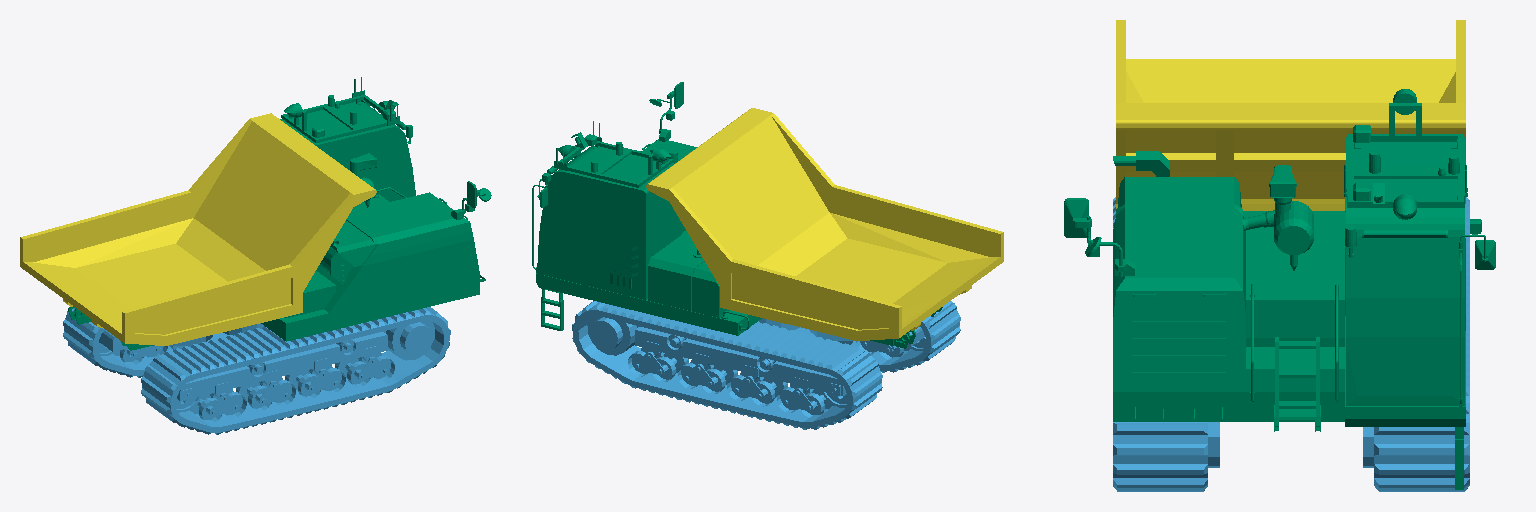
URDF robot description (mst2200vd):
<?xml version="1.0" ?>
<!-- =================================================================================== -->
<!-- |    This document was autogenerated by xacro from mst2200vd.xacro                 | -->
<!-- |    EDITING THIS FILE BY HAND IS NOT RECOMMENDED                                 | -->
<!-- =================================================================================== -->
<robot name="mst2200vd">
  <!-- Base Link -->
  <link name="base_link"/>
  <!-- Track {{{ -->
  <joint name="base_joint" type="fixed">
    <parent link="base_link"/>
    <child link="track_link"/>
  </joint>
  <link name="track_link">
    <visual>
      <geometry>
        <mesh filename="package://mst2200vd_description/meshes/mst2200vd-crawler.dae"/>
      </geometry>
    </visual>
    <collision>
      <geometry>
        <mesh filename="package://mst2200vd_description/meshes/mst2200vd-crawler.dae"/>
      </geometry>
    </collision>
    <inertial>
      <origin rpy="0 0 0" xyz="0 0 0"/>
      <mass value="0.03"/>
      <inertia ixx="1.0" ixy="0.0" ixz="0.0" iyy="1.0" iyz="0.0" izz="1.0"/>
    </inertial>
  </link>
  <!-- }}} Track ends here -->
  <!-- Body {{{ -->
  <joint name="swing_joint" type="continuous">
    <origin xyz="0 0 1"/>
    <axis xyz="0 0 1"/>
    <parent link="track_link"/>
    <child link="body_link"/>
  </joint>
  <link name="body_link">
    <visual>
      <origin xyz="0 0 0"/>
      <geometry>
        <mesh filename="package://mst2200vd_description/meshes/mst2200vd-body.dae"/>
      </geometry>
    </visual>
    <collision>
      <origin xyz="0 0 0"/>
      <geometry>
        <mesh filename="package://mst2200vd_description/meshes/mst2200vd-body.dae"/>
      </geometry>
    </collision>
    <inertial>
      <origin rpy="0 0 0" xyz="0 0 0"/>
      <mass value="0.03"/>
      <inertia ixx="1.0" ixy="0.0" ixz="0.0" iyy="1.0" iyz="0.0" izz="1.0"/>
    </inertial>
  </link>
  <!-- }}} Body ends here -->
  <!-- Vessel {{{ -->
  <joint name="vessel_pin_joint" type="revolute">
    <origin xyz="-2.389 0 0.562"/>
    <axis xyz="0 1 0"/>
    <parent link="body_link"/>
    <child link="vessel_link"/>
    <limit effort="500" lower="-1.0471975511965976" upper="0.0" velocity="6.159937255"/>
  </joint>
  <link name="vessel_link">
    <visual>
      <origin xyz="0 0 0"/>
      <geometry>
        <mesh filename="package://mst2200vd_description/meshes/mst2200vd-vessel.dae"/>
      </geometry>
    </visual>
    <collision>
      <origin xyz="0 0 0"/>
      <geometry>
        <mesh filename="package://mst2200vd_description/meshes/mst2200vd-vessel.dae"/>
      </geometry>
    </collision>
    <inertial>
      <origin rpy="0 0 0" xyz="0 0 0"/>
      <mass value="0.03"/>
      <inertia ixx="1.0" ixy="0.0" ixz="0.0" iyy="1.0" iyz="0.0" izz="1.0"/>
    </inertial>
  </link>
  <!-- }}} Vessel ends here -->
  <!-- Vessel Cylinder {{{ -->
  <joint name="vessel_cylinder_joint" type="continuous">
    <origin xyz="-1.891 0 0.293"/>
    <axis xyz="0 1 0"/>
    <parent link="body_link"/>
    <child link="vessel_cylinder_link"/>
    <mimic joint="vessel_pin_joint" multiplier="1.1"/>
  </joint>
  <link name="vessel_cylinder_link">
    <visual>
      <origin xyz="0 0 0"/>
      <geometry>
        <mesh filename="package://mst2200vd_description/meshes/mst2200vd-vessel_cylinder.dae"/>
      </geometry>
    </visual>
    <collision>
      <origin xyz="0 0 0"/>
      <geometry>
        <mesh filename="package://mst2200vd_description/meshes/mst2200vd-vessel_cylinder.dae"/>
      </geometry>
    </collision>
    <inertial>
      <origin rpy="0 0 0" xyz="0 0 0"/>
      <mass value="0.03"/>
      <inertia ixx="1.0" ixy="0.0" ixz="0.0" iyy="1.0" iyz="0.0" izz="1.0"/>
    </inertial>
  </link>
  <!-- }}} Vessel Cylinder ends here -->
  <!-- Vessel Rod {{{ -->
  <joint name="vessel_rod_joint" type="prismatic">
    <origin xyz="0 0 0"/>
    <axis xyz="1.039 0 0.282"/>
    <parent link="vessel_cylinder_link"/>
    <child link="vessel_rod_link"/>
    <limit effort="500" lower="0" upper="0.6" velocity="6.159937255"/>
    <mimic joint="vessel_pin_joint" multiplier="-0.5729577951308232"/>
  </joint>
  <link name="vessel_rod_link">
    <visual>
      <origin xyz="0 0 0"/>
      <geometry>
        <mesh filename="package://mst2200vd_description/meshes/mst2200vd-vessel_rod.dae"/>
      </geometry>
    </visual>
    <collision>
      <origin xyz="0 0 0"/>
      <geometry>
        <mesh filename="package://mst2200vd_description/meshes/mst2200vd-vessel_rod.dae"/>
      </geometry>
    </collision>
    <inertial>
      <origin rpy="0 0 0" xyz="0 0 0"/>
      <mass value="0.03"/>
      <inertia ixx="1.0" ixy="0.0" ixz="0.0" iyy="1.0" iyz="0.0" izz="1.0"/>
    </inertial>
  </link>
  <!-- }}} Vessel Rod ends here -->
</robot>

--- Facts derived from the render (not from the file) ---
3 views of the same robot in one strip: view 1: azimuth 30°, elevation 25°; view 2: azimuth 150°, elevation 25°; view 3: azimuth 270°, elevation 25° (orthographic).
Robot: mst2200vd — 6 links, 5 joints (1 revolute, 2 continuous, 1 prismatic, 1 fixed); root link base_link; default pose: every joint at zero.
Links seen in each view (by area): view 1: vessel_link, body_link, track_link; view 2: vessel_link, track_link, body_link; view 3: body_link, vessel_link, track_link.
Link boxes in pixels (<box>): vessel_link: <box>20,113,376,345</box>; body_link: <box>68,77,491,350</box>; track_link: <box>63,307,450,434</box>; vessel_link: <box>646,108,1003,340</box>; track_link: <box>572,301,960,429</box>; body_link: <box>532,82,942,348</box>; body_link: <box>1064,89,1495,489</box>; vessel_link: <box>1116,20,1465,237</box>; track_link: <box>1113,197,1469,491</box>.
Size in the robot's own frame: 5.99 by 3.6 by 3.52 metres.
5 mesh visuals loaded from 5 distinct referenced files (5 Collada DAE).
